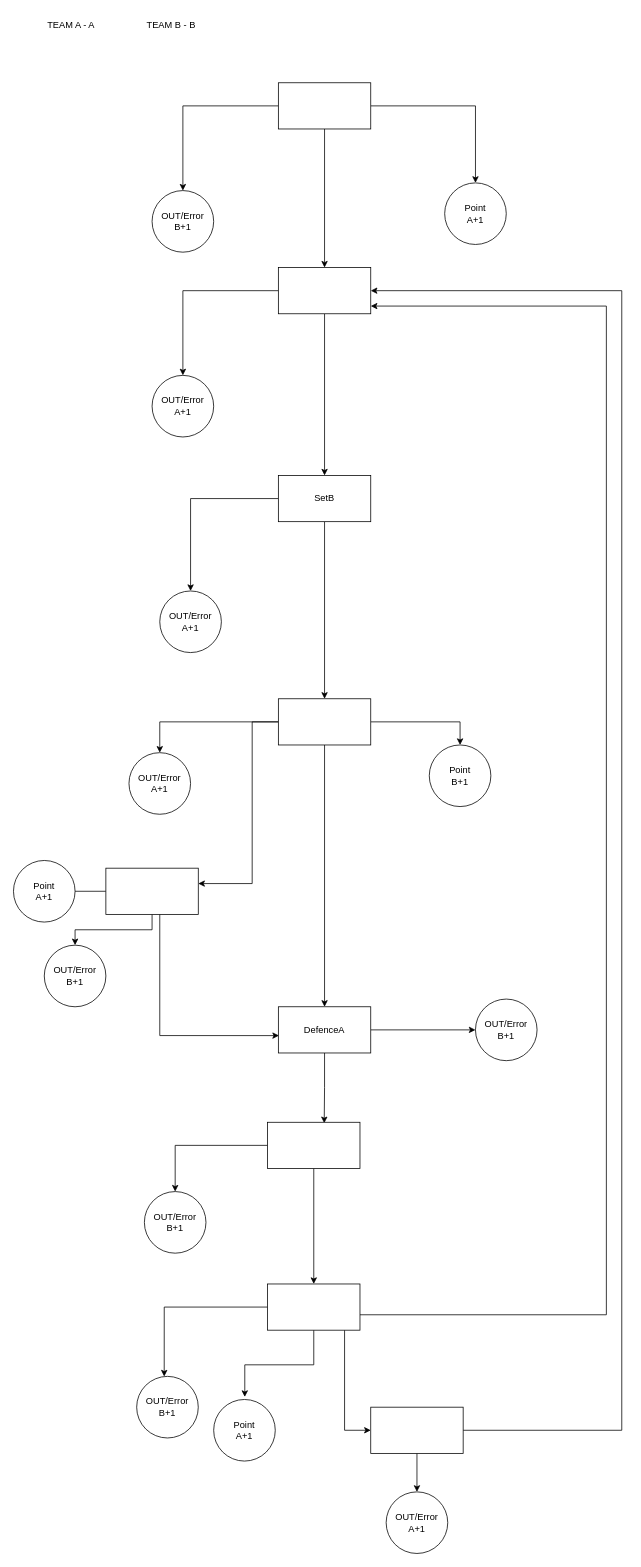
Some shapes in this 641 by 1567 pixel diagram are drawn without their labels. Each missing label, with the centre of its shape:
"BlockA" goes at point 151,890.
"BlockB" goes at point 416,1429.
"DefenceB" goes at point 324,290.
"ServeA" goes at point 324,105.
"SetA" goes at point 313,1145.
"SpikeA" goes at point 313,1306.
"SpikeB" goes at point 324,721.
